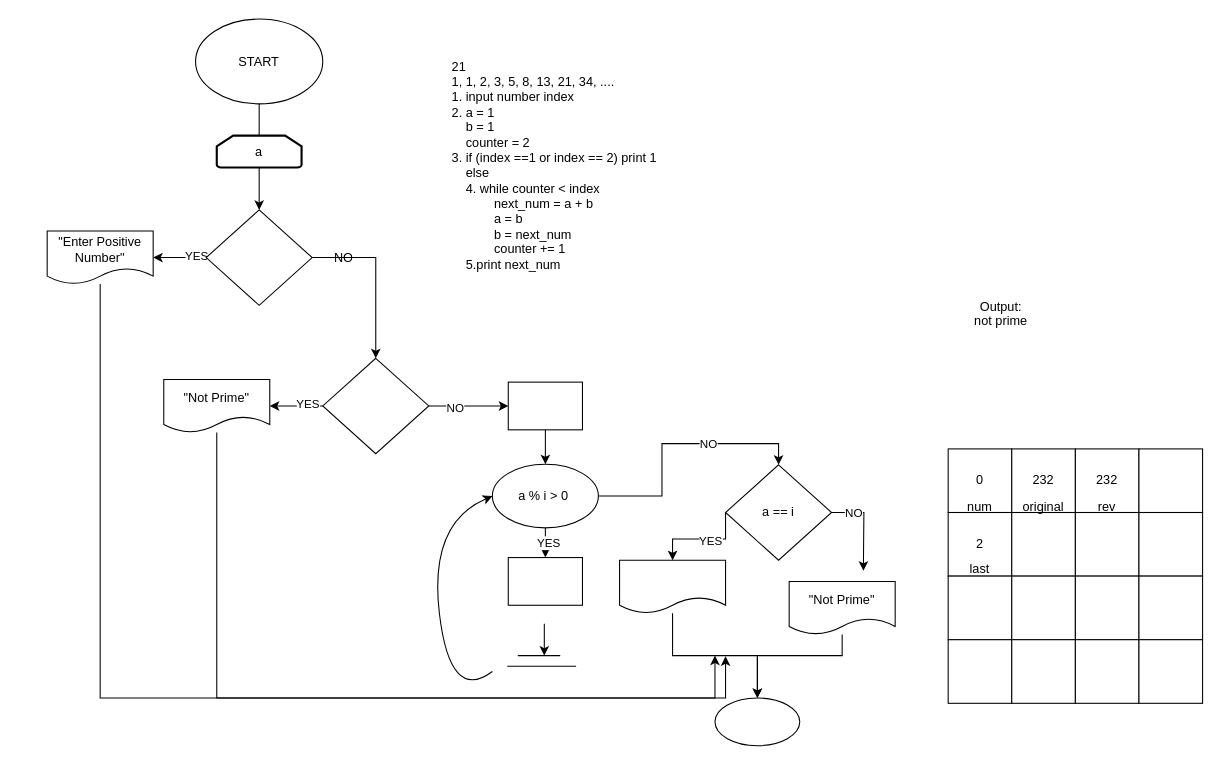
Some shapes in this 1221 by 764 pixel diagram are drawn without their labels. The centre of each missing label's shape, as x and y in pixels:
"Prime": [672,586]
a < 1: [258,257]
a == 1: [375,405]
END: [757,721]
i += 1: [544,580]
i = 2: [544,405]
